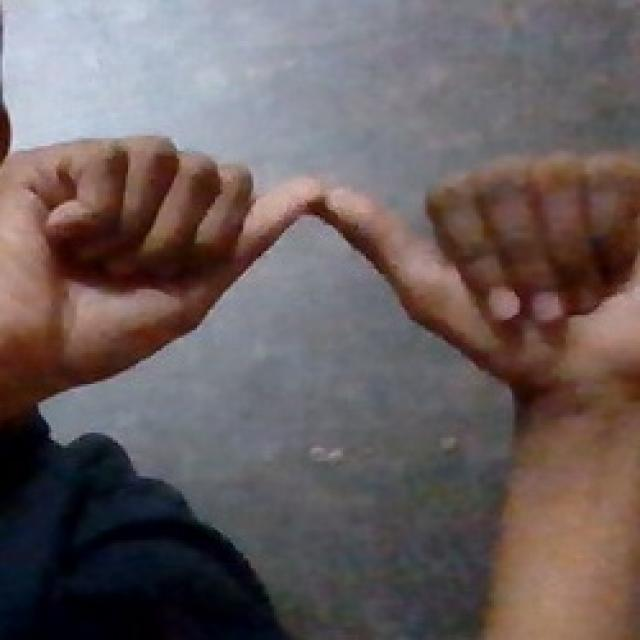Alphabet-A: (10, 126, 640, 400)
